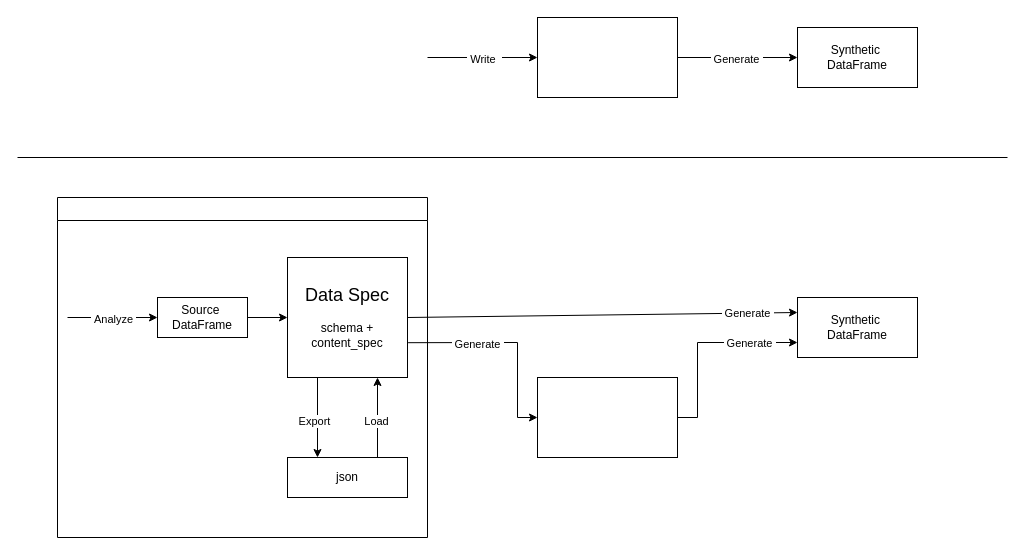
The diagram is 1026 pixels wide and 555 high, and some of its shapes have lost their labels. Each missing label, with the centre of its shape:
Profiling Existing Data: point (242, 367)
Python Code: point (607, 57)
Python Code Customize generation: point (607, 417)
